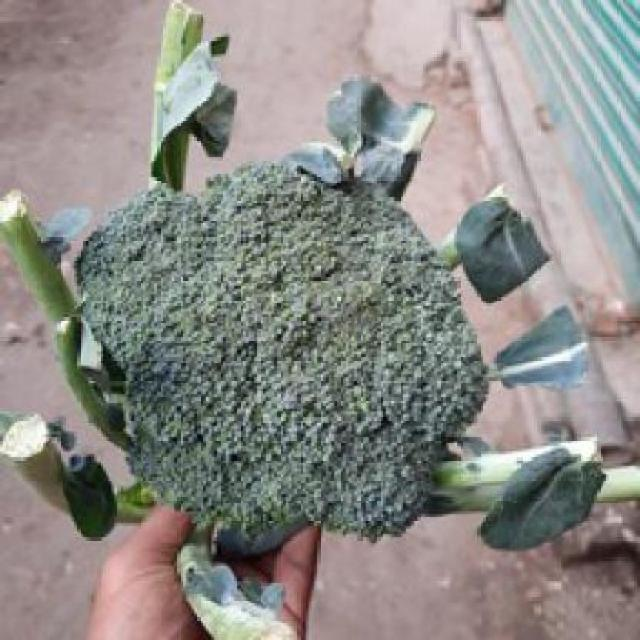broccoli: (46, 140, 546, 557)
